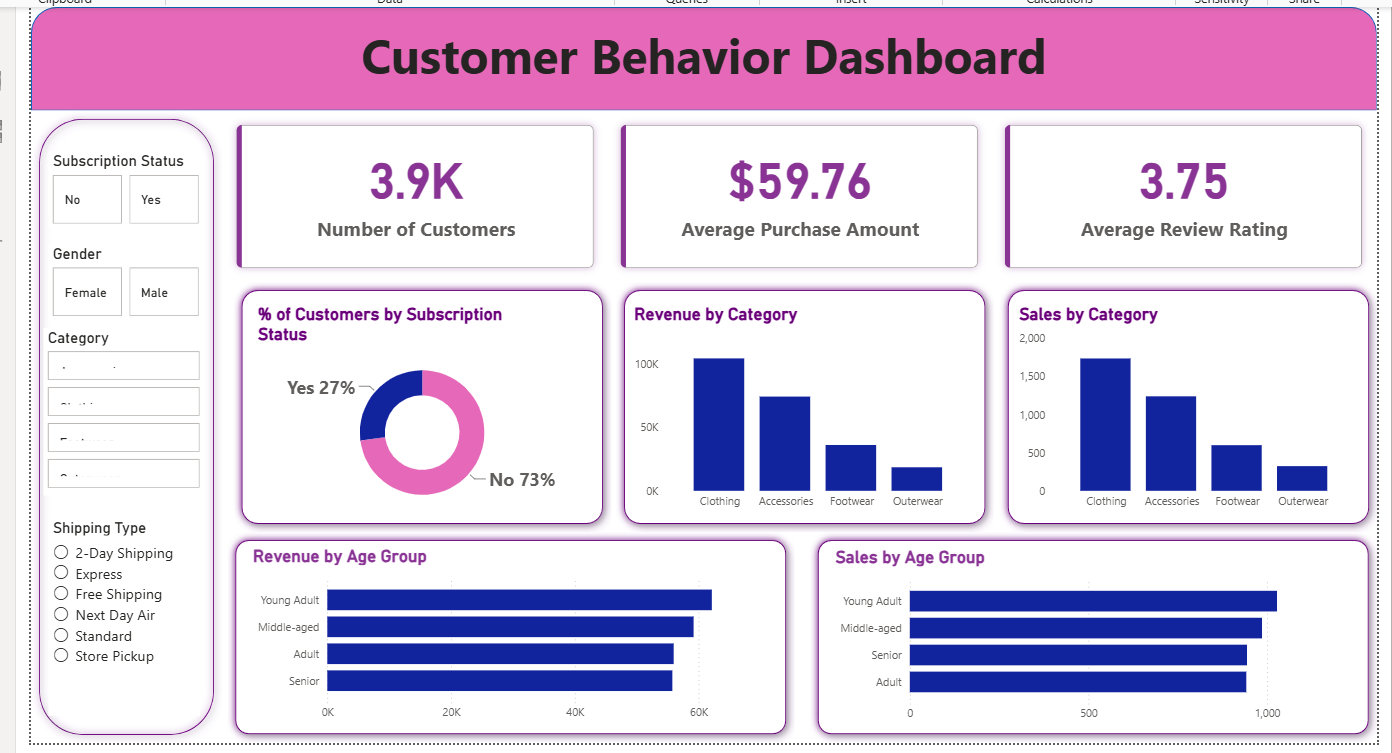

What the dashboard file says about the page in this screenshot:
{"tool":"powerbi","page":{"name":"Page 1","canvas":[1500,855],"ordinal":0},"visuals":[{"type":"cardVisual","fields":{"Data":["customer mytable.Number of customers","customer mytable.average purchase amount","customer mytable.average review rating"]},"box":[275.9,124.9,1224,206.8],"z":0},{"type":"shape","box":[0,0,1499.9,125.3],"z":1000},{"type":"textbox","box":[0,16.7,1499.9,130.9],"z":2000},{"type":"shape","box":[275.9,316.6,408,273],"z":3000},{"type":"donutChart","title":"% of Customers By Subscription Status","fields":{"Category":["customer mytable.subscription_status"],"Y":["CountNonNull(customer mytable.customer_id)"]},"box":[293.3,331.1,374.6,248.3],"z":4000},{"type":"shape","box":[683.9,316.6,408,273],"z":5000},{"type":"shape","box":[1092,316.6,408,273],"z":6000},{"type":"clusteredColumnChart","title":"Revenue By  Category","fields":{"Y":["Sum(customer mytable.purchase_amount)"],"Category":["customer mytable.category"]},"box":[699.9,331.1,377.5,248.3],"z":7000},{"type":"clusteredColumnChart","title":"Sales By  Category","fields":{"Category":["customer mytable.category"],"Y":["Sum(customer mytable.customer_id)"]},"box":[1108,331.1,377.5,248.3],"z":8000},{"type":"shape","box":[0,124.9,267.2,731.9],"z":9000},{"type":"advancedSlicerVisual","title":"subscription status","fields":{"Values":["customer mytable.subscription_status"]},"box":[26.1,169.9,217.8,85.7],"z":10000},{"type":"advancedSlicerVisual","title":"Gender","fields":{"Values":["customer mytable.gender"]},"box":[30.5,265.7,213.5,84.2],"z":11000},{"type":"advancedSlicerVisual","title":"Category","fields":{"Values":["customer mytable.category"]},"box":[33.4,360.1,209.1,248.3],"z":12000},{"type":"listSlicer","title":"Shipping Type","fields":{"Values":["customer mytable.shipping_type"]},"box":[40.7,608.4,193.1,219.3],"z":13000},{"type":"shape","box":[275.9,595.4,612.8,248.3],"z":14000},{"type":"clusteredBarChart","title":"Revenue By Age Group","fields":{"Y":["Sum(customer mytable.purchase_amount)"],"Category":["customer mytable.age_group"]},"box":[287.5,608.4,589.6,223.6],"z":15000},{"type":"shape","box":[888.7,595.4,611.3,248.3],"z":16000},{"type":"clusteredBarChart","title":"Sales By Age Group","fields":{"Category":["customer mytable.age_group"],"Y":["CountNonNull(customer mytable.customer_id)"]},"box":[904.7,608.4,580.8,223.6],"z":17000}]}

Visuals, with their boxes on the page's 1500x855 design canvas (x1, y1, x2, y2). These are canvas units, not pixel positions in the 1392x753 screenshot, which may show the page scaled, cropped or inside an application window:
cardVisual - customer mytable.Number of customers x customer mytable.average purchase amount: (276, 125, 1500, 332)
shape: (0, 0, 1500, 125)
textbox: (0, 17, 1500, 148)
shape: (276, 317, 684, 590)
"% of Customers By Subscription Status" donutChart: (293, 331, 668, 579)
shape: (684, 317, 1092, 590)
shape: (1092, 317, 1500, 590)
"Revenue By  Category" clusteredColumnChart: (700, 331, 1077, 579)
"Sales By  Category" clusteredColumnChart: (1108, 331, 1486, 579)
shape: (0, 125, 267, 857)
"subscription status" advancedSlicerVisual: (26, 170, 244, 256)
"Gender" advancedSlicerVisual: (30, 266, 244, 350)
"Category" advancedSlicerVisual: (33, 360, 242, 608)
"Shipping Type" listSlicer: (41, 608, 234, 828)
shape: (276, 595, 889, 844)
"Revenue By Age Group" clusteredBarChart: (288, 608, 877, 832)
shape: (889, 595, 1500, 844)
"Sales By Age Group" clusteredBarChart: (905, 608, 1486, 832)
